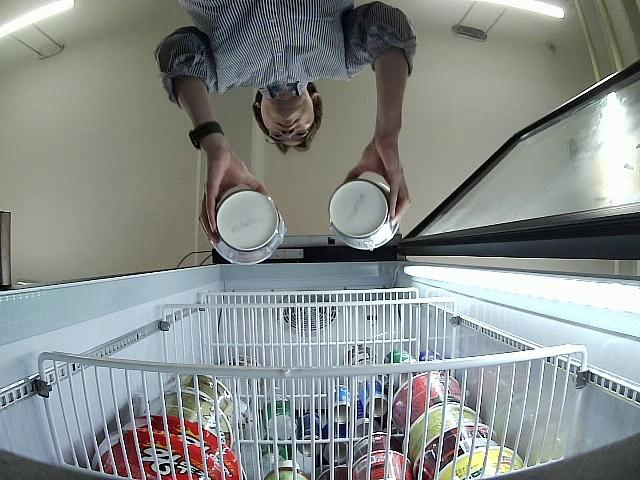00_hand: (198, 143, 273, 244), (343, 135, 411, 226)
07_buldak_L: (205, 188, 287, 266), (326, 182, 400, 250)
